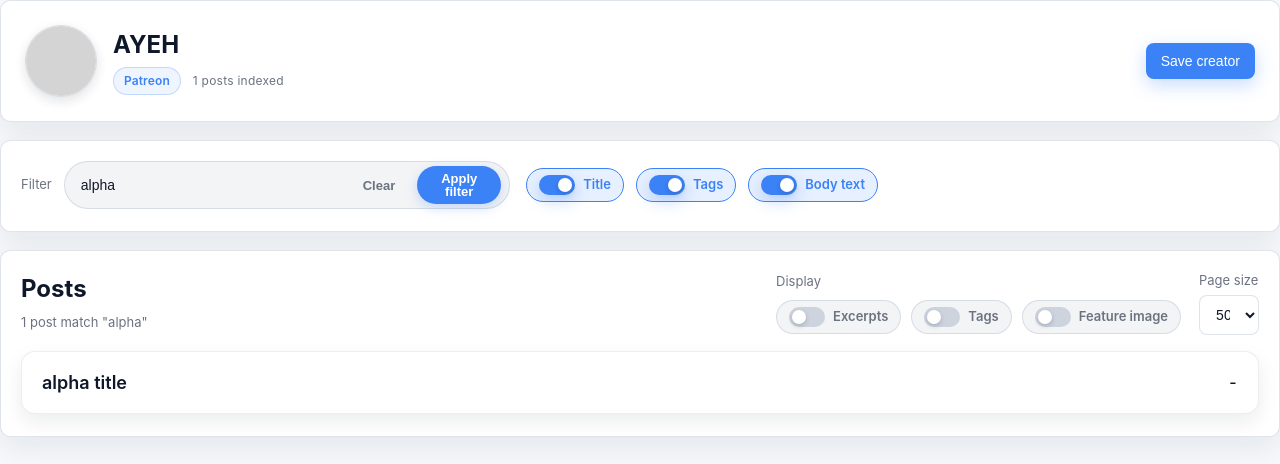
Test: CreatorPage search behavior › resets filter state when clear is clicked
This screenshot has width=1280, height=464.
Expected: the text "alpha title" is shown, [42, 372, 127, 392]
Click the button "Clear".
click(379, 185)  # box [349, 172, 409, 198]
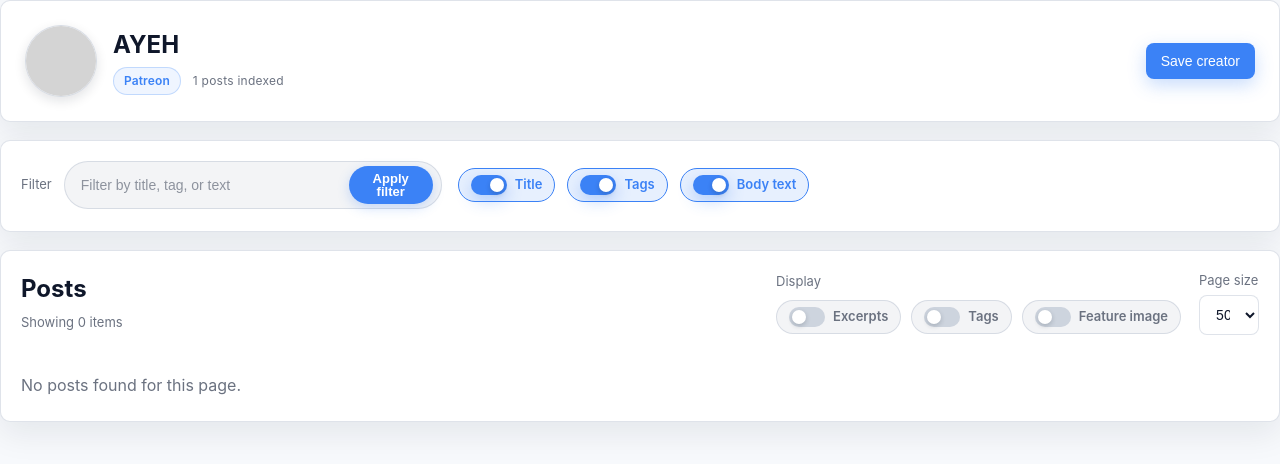
Now the link "alpha title" is gone
